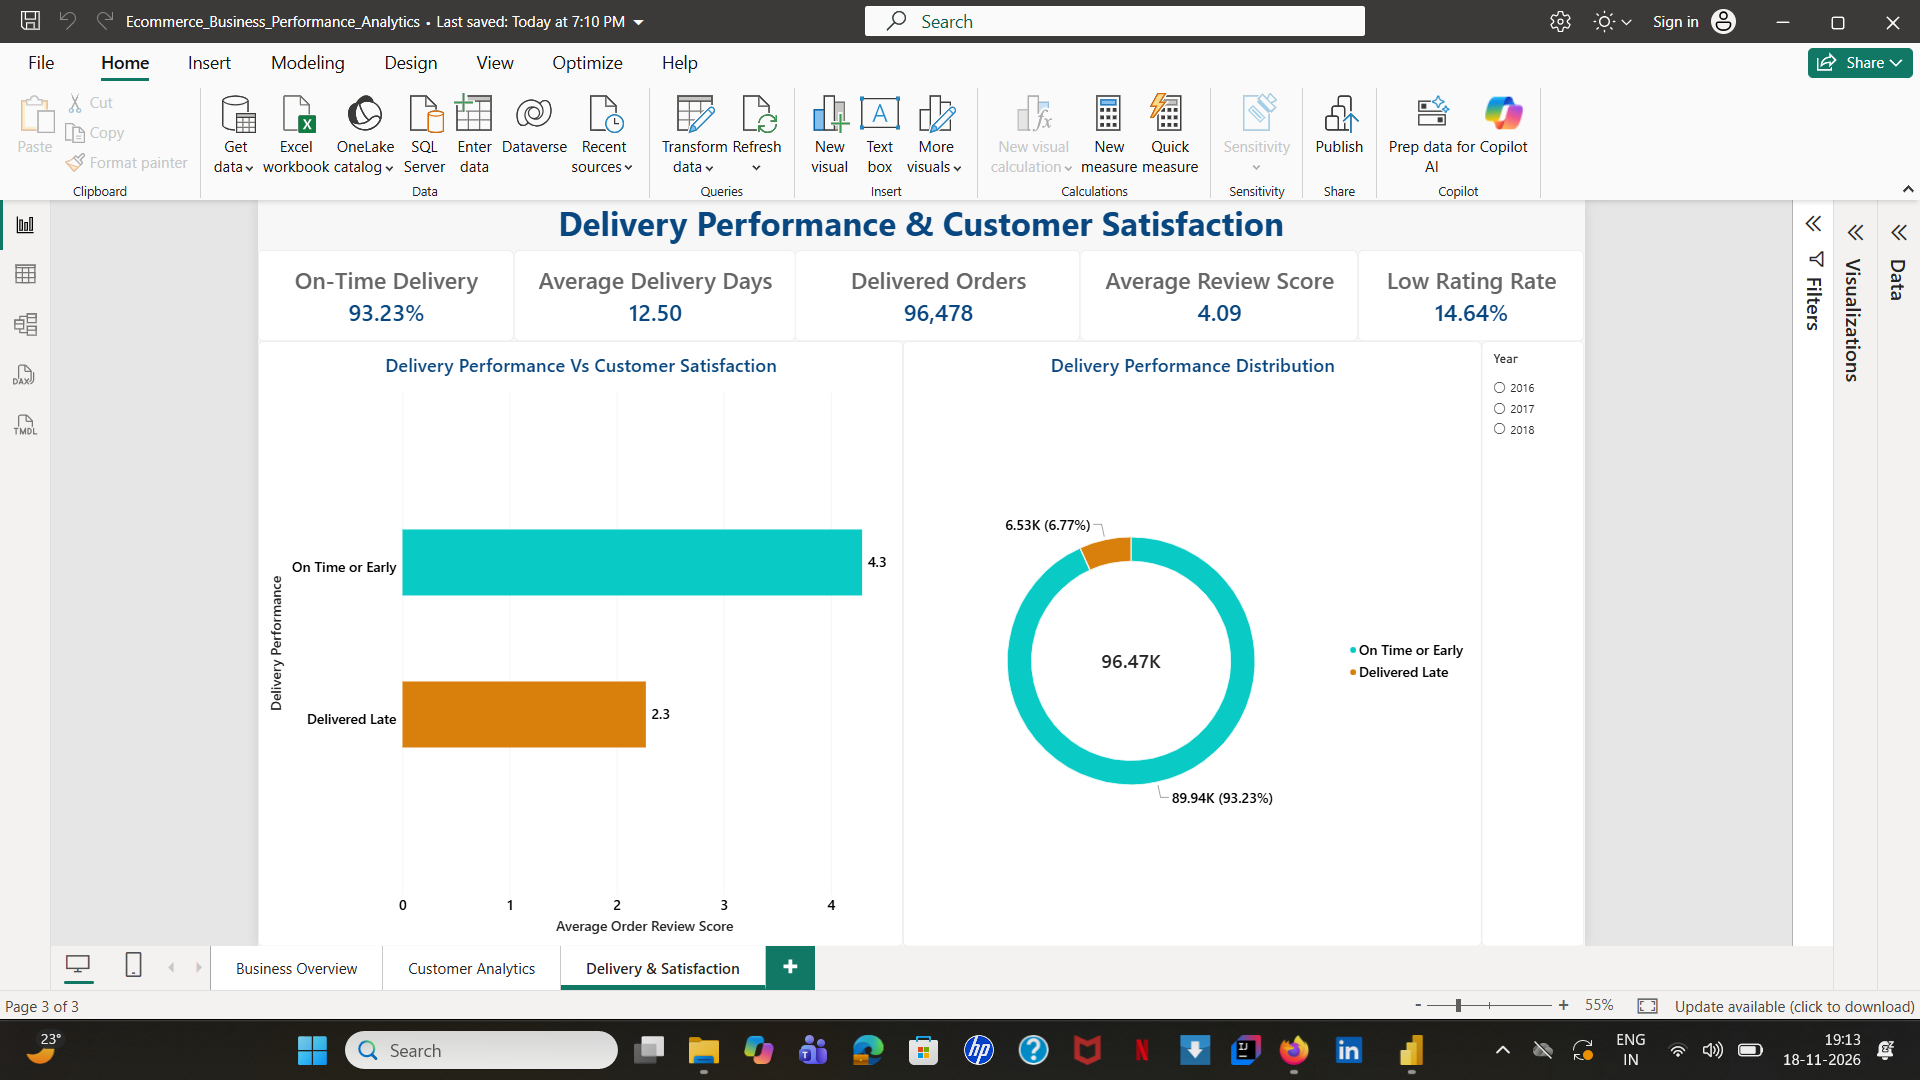

The page's visual inventory and layout, read from the dashboard file:
{"tool":"powerbi","page":{"name":"Delivery & Satisfaction","canvas":[1920,1080],"ordinal":2},"visuals":[{"type":"cardVisual","fields":{"Data":["olist_orders_dataset.Average Delivery Days"]},"box":[371,72.4,407.2,132.1],"z":0},{"type":"cardVisual","fields":{"Data":["olist_customers_dataset.On-Time Delivery Rate"]},"box":[0,72.4,371,132.1],"z":1000},{"type":"clusteredBarChart","title":"Delivery Performance Vs Customer Satisfaction","fields":{"Category":["olist_orders_dataset.Delivery Performance"],"Y":["olist_orders_dataset.Average Order Review Score"]},"box":[0,204.5,933.8,875.9],"z":2000},{"type":"cardVisual","fields":{"Data":["olist_orders_dataset.Delivered Orders"]},"box":[778.2,72.4,412.6,132.1],"z":3000},{"type":"cardVisual","fields":{"Data":["olist_customers_dataset.Average Review Score"]},"box":[1190.8,72.4,401.7,132.1],"z":4000},{"type":"cardVisual","fields":{"Data":["olist_customers_dataset.Low Rating Order Rate"]},"box":[1592.5,72.4,327.5,132.1],"z":5000},{"type":"donutChart","title":"Delivery Performance Distribution","fields":{"Category":["olist_orders_dataset.Delivery Performance"],"Y":["Count(olist_orders_dataset.order_id)"]},"box":[933.8,204.5,837.9,875.9],"z":6000},{"type":"listSlicer","fields":{"Values":["olist_orders_dataset.order_purchase_timestamp.Variation.Date Hierarchy.Year"]},"box":[1771.7,204.5,148.4,875.9],"z":7000},{"type":"textbox","box":[0,0,1920.1,72.4],"z":7001}]}

Visuals, with their boxes on the page's 1920x1080 design canvas (x1, y1, x2, y2). These are canvas units, not pixel positions in the 1920x1080 screenshot, which may show the page scaled, cropped or inside an application window:
cardVisual - olist_orders_dataset.Average Delivery Days: locate(371, 72, 778, 204)
cardVisual - olist_customers_dataset.On-Time Delivery Rate: locate(0, 72, 371, 204)
"Delivery Performance Vs Customer Satisfaction" clusteredBarChart: locate(0, 204, 934, 1080)
cardVisual - olist_orders_dataset.Delivered Orders: locate(778, 72, 1191, 204)
cardVisual - olist_customers_dataset.Average Review Score: locate(1191, 72, 1592, 204)
cardVisual - olist_customers_dataset.Low Rating Order Rate: locate(1592, 72, 1920, 204)
"Delivery Performance Distribution" donutChart: locate(934, 204, 1772, 1080)
listSlicer - olist_orders_dataset.order_purchase_timestamp.Variation.Date Hierarchy.Year: locate(1772, 204, 1920, 1080)
textbox: locate(0, 0, 1920, 72)
